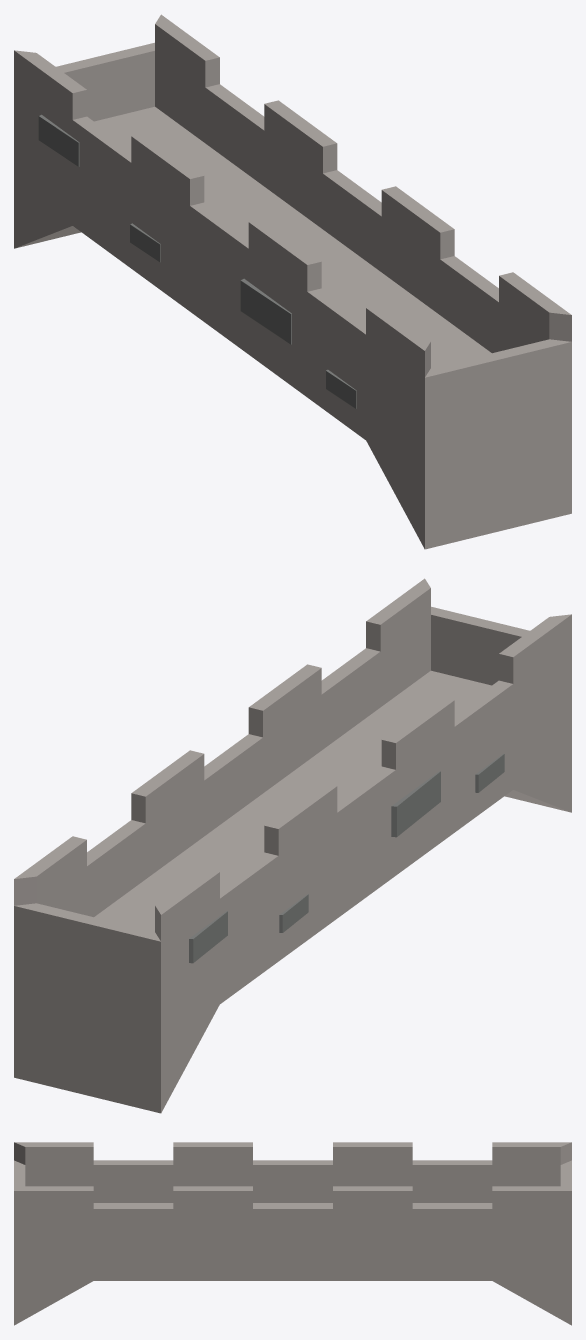
File: SM_Burg_03.fbx
The picture shows the model from 3 angles, top to bottom: view 1: azimuth 30°, elevation 25°; view 2: azimuth 150°, elevation 25°; view 3: azimuth 270°, elevation 25°; orthographic projection. The views are drawn at different scales.
Parts seen in each view (by area): view 1: Burg_03.001; view 2: Burg_03.001; view 3: Burg_03.001.
Part boxes in pixels (<box>): Burg_03.001: <box>14,14,571,549</box>; Burg_03.001: <box>14,578,571,1113</box>; Burg_03.001: <box>14,1142,571,1325</box>.
Bounding box in the file's own units: 142 × 177 × 665.
